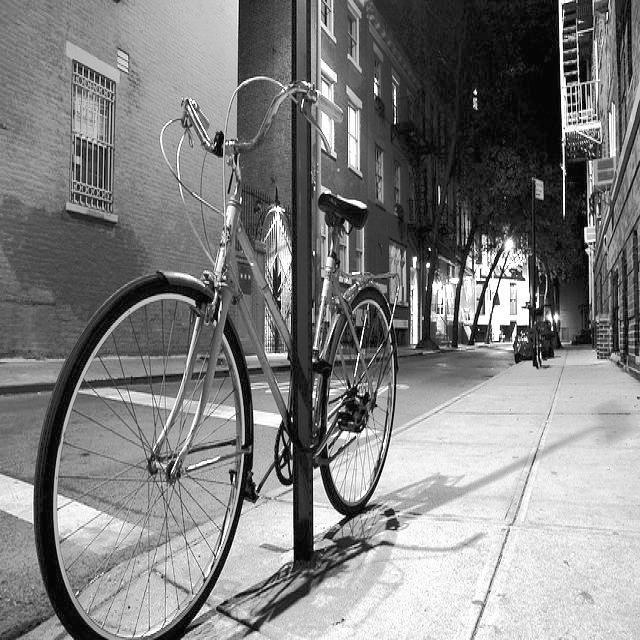Bicycle: (20, 153, 431, 640)
